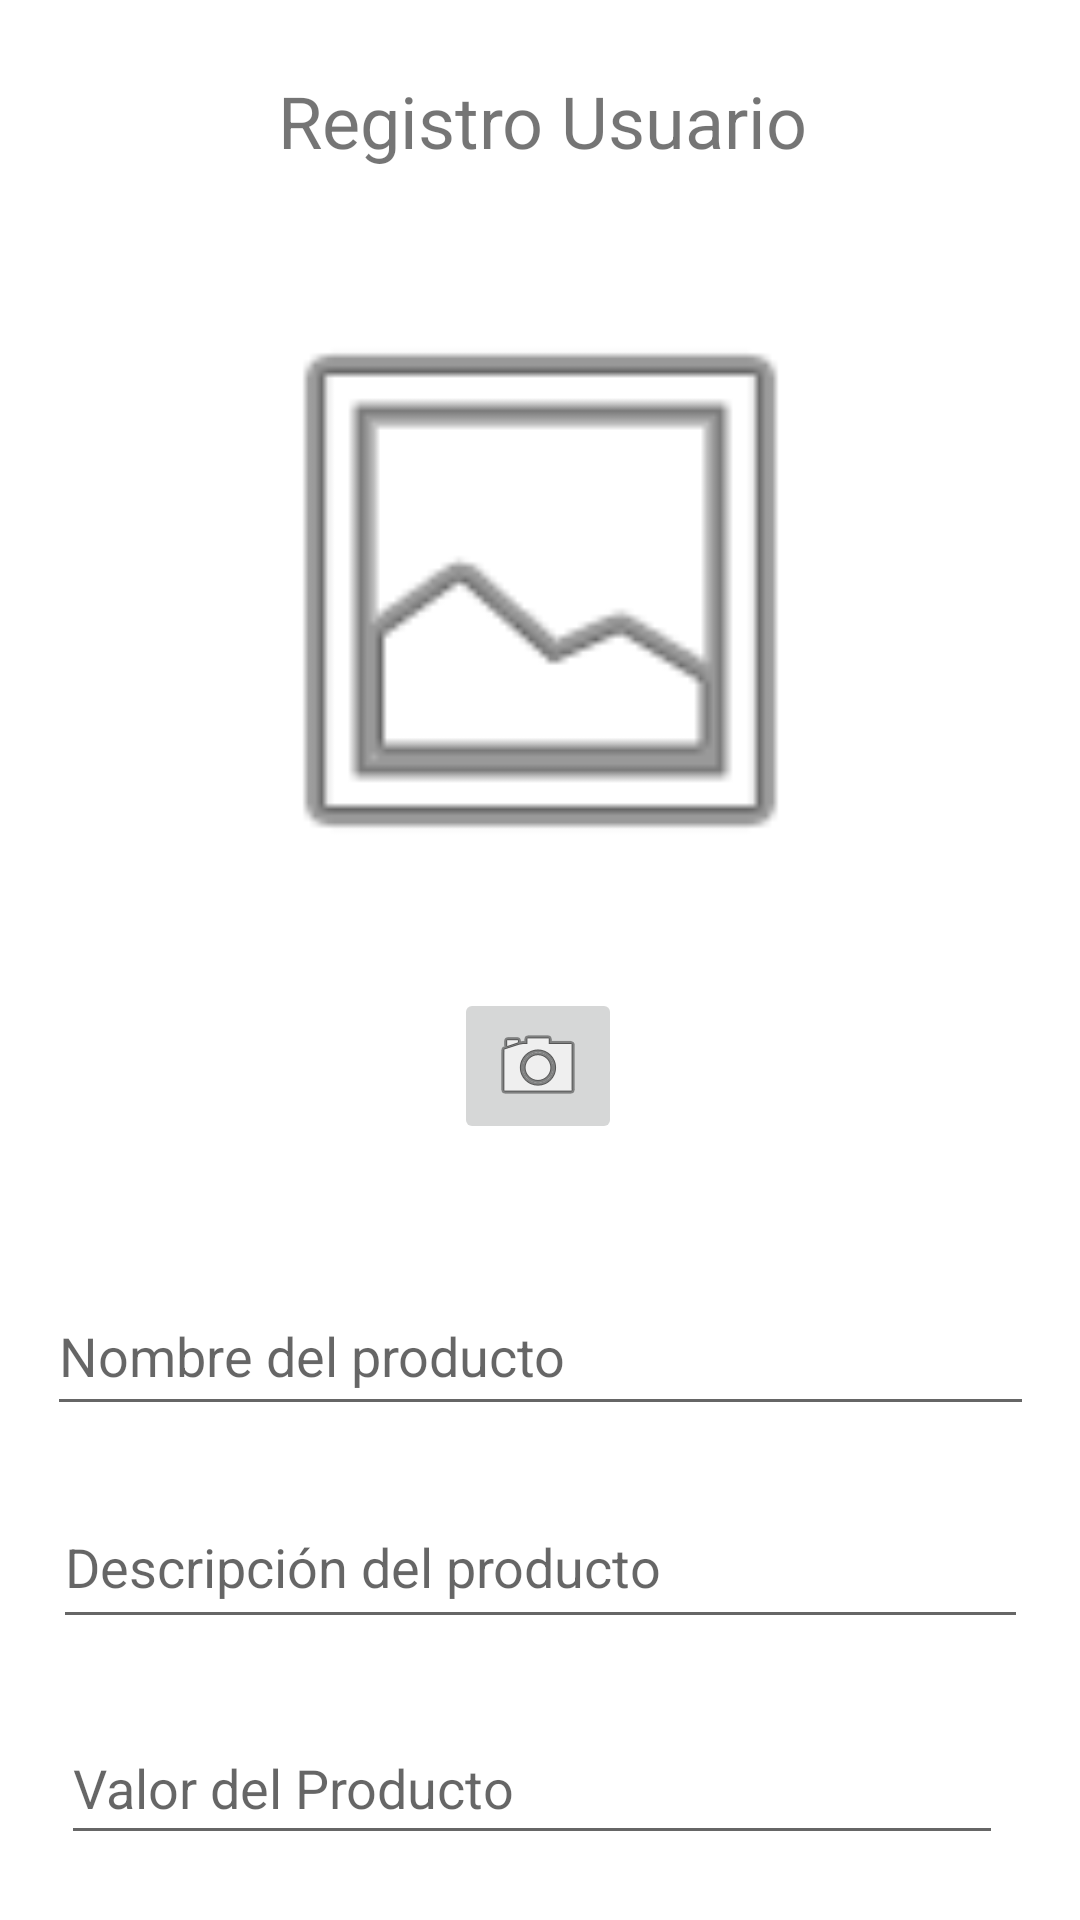

Named icons in this screenshot (1080 x 1920) and their bounding boxes, (x1, y1, x2, y2):
camera: (466, 1006, 610, 1126)
